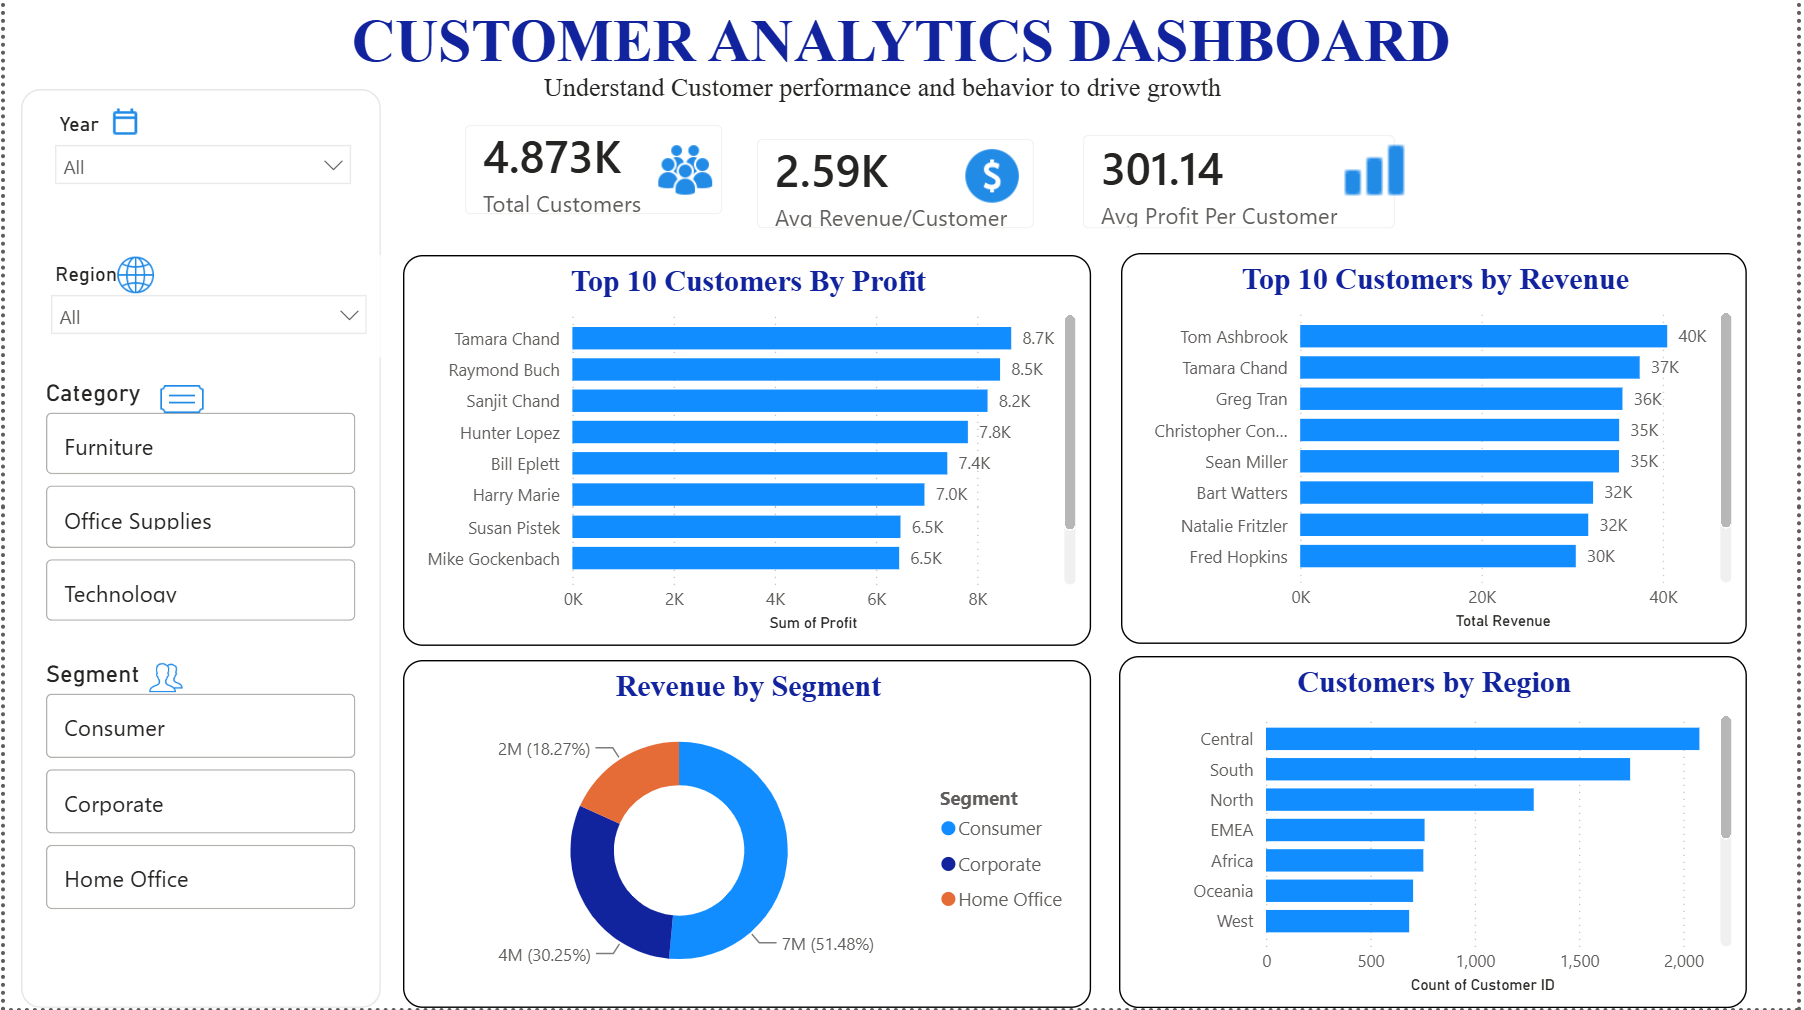

What the dashboard file says about the page in this screenshot:
{"tool":"powerbi","page":{"name":"Customer Analytics","canvas":[1280,720],"ordinal":1},"visuals":[{"type":"textbox","box":[95.7,0,1088.6,64.3],"z":0},{"type":"cardVisual","title":" Total Customers","fields":{"Data":["Count(superstore.Customer ID)"]},"box":[311.4,72.9,218.6,98.6],"z":1000},{"type":"cardVisual","title":"Avg Profit/Customer","fields":{"Data":["superstore.Avg Profit Per Customer"]},"box":[752.9,80,257.1,101.4],"z":2000},{"type":"cardVisual","title":"Avg Revenue/Customer","fields":{"Data":["superstore.Avg Revenue Per Customer"]},"box":[520,82.9,232.9,98.6],"z":2000,"group":"g1"},{"type":"clusteredBarChart","title":"Top 10 Customers by Revenue","fields":{"Category":["superstore.Customer Name"],"Y":["Sum(superstore.Sales)"]},"box":[797.1,181.4,447.1,278.6],"z":3000},{"type":"textbox","box":[380,47.1,534.3,32.9],"z":4000},{"type":"clusteredBarChart","title":"Top 10 Customers By Profit","fields":{"Category":["superstore.Customer Name"],"Y":["Sum(superstore.Profit)"]},"box":[284.3,182.9,491.4,278.6],"z":5000},{"type":"donutChart","title":"Revenue by Segment","fields":{"Category":["superstore.Segment"],"Y":["Sum(superstore.Sales)"]},"box":[284.3,471.4,491.4,248.6],"z":6000},{"type":"barChart","title":"Customers by Region","fields":{"Category":["superstore.Region"],"Y":["Count(superstore.Customer ID)"]},"box":[795.7,468.6,448.6,251.4],"z":7000},{"type":"image","box":[457.1,102.9,57.1,38.6],"z":8000},{"type":"image","box":[948.6,95.7,57.1,52.9],"z":9000},{"type":"group","id":"g1","title":"Group 1","box":[520,82.9,232.9,98.6],"z":10000},{"type":"image","box":[678.6,102.9,52.9,47.1],"z":10000,"group":"g1"},{"type":"group","id":"g2","title":"Group 2","box":[11.4,64.3,257.1,655.7],"z":11000},{"type":"shape","box":[11.4,64.3,257.1,655.7],"z":11000,"group":"g2"},{"type":"slicer","fields":{"Values":["superstore.Year"]},"box":[25.1,75.3,231.4,194.3],"z":12000,"group":"g2"},{"type":"group","id":"g3","title":"Group 7","box":[22.9,182.9,245.7,72.9],"z":12000},{"type":"group","id":"g4","title":"Group 10","box":[24.3,271.4,231.4,177.1],"z":13000},{"type":"image","box":[101.8,274.7,27,27.1],"z":13000,"group":"g4"},{"type":"slicer","fields":{"Values":["superstore.Region"]},"box":[22.9,182.9,245.7,72.9],"z":14000,"group":"g3"},{"type":"image","box":[101.4,270,50,31.4],"z":14000},{"type":"advancedSlicerVisual","fields":{"Values":["superstore.Segment"]},"box":[24.3,471.4,231.4,185.7],"z":15000},{"type":"image","box":[101.4,471.4,27.1,24.3],"z":16000},{"type":"image","box":[74.3,74.3,22.9,28.6],"z":17000},{"type":"advancedSlicerVisual","fields":{"Values":["superstore.Category"]},"box":[24.3,271.4,231.4,177.1],"z":17001,"group":"g4"},{"type":"image","box":[77.9,182.9,29.4,28.6],"z":18000,"group":"g3"}]}

Visuals, with their boxes in screenshot pixels (x1, y1, x2, y2), scaled from the page's 1280x720 canvas onto the 1804x1010 screenshot:
textbox: (x1=135, y1=0, x2=1669, y2=90)
" Total Customers" cardVisual: (x1=439, y1=102, x2=747, y2=241)
"Avg Profit/Customer" cardVisual: (x1=1061, y1=112, x2=1423, y2=254)
"Avg Revenue/Customer" cardVisual: (x1=733, y1=116, x2=1061, y2=255)
"Top 10 Customers by Revenue" clusteredBarChart: (x1=1123, y1=254, x2=1754, y2=645)
textbox: (x1=536, y1=66, x2=1289, y2=112)
"Top 10 Customers By Profit" clusteredBarChart: (x1=401, y1=257, x2=1093, y2=647)
"Revenue by Segment" donutChart: (x1=401, y1=661, x2=1093, y2=1009)
"Customers by Region" barChart: (x1=1121, y1=657, x2=1754, y2=1009)
image: (x1=644, y1=144, x2=725, y2=198)
image: (x1=1337, y1=134, x2=1417, y2=208)
"Group 1" group: (x1=733, y1=116, x2=1061, y2=255)
image: (x1=956, y1=144, x2=1031, y2=210)
"Group 2" group: (x1=16, y1=90, x2=378, y2=1009)
shape: (x1=16, y1=90, x2=378, y2=1009)
slicer - superstore.Year: (x1=35, y1=106, x2=362, y2=378)
"Group 7" group: (x1=32, y1=257, x2=379, y2=359)
"Group 10" group: (x1=34, y1=381, x2=360, y2=629)
image: (x1=143, y1=385, x2=182, y2=423)
slicer - superstore.Region: (x1=32, y1=257, x2=379, y2=359)
image: (x1=143, y1=379, x2=213, y2=423)
advancedSlicerVisual - superstore.Segment: (x1=34, y1=661, x2=360, y2=922)
image: (x1=143, y1=661, x2=181, y2=695)
image: (x1=105, y1=104, x2=137, y2=144)
advancedSlicerVisual - superstore.Category: (x1=34, y1=381, x2=360, y2=629)
image: (x1=110, y1=257, x2=151, y2=297)
